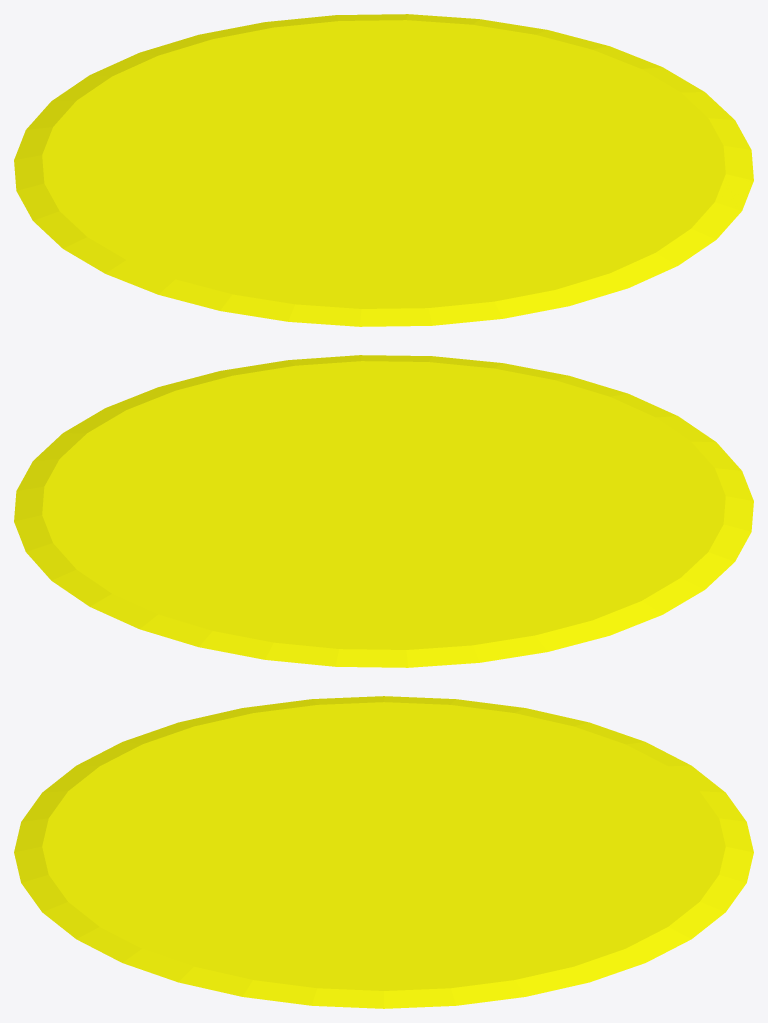
File: yellow_player.glb
3 views of the same model, one above another, from view 1: azimuth 30°, elevation 25°; view 2: azimuth 150°, elevation 25°; view 3: azimuth 270°, elevation 25° (orthographic).
Parts seen in each view (by area): view 1: RedPlayer; view 2: RedPlayer; view 3: RedPlayer.
Part boxes in pixels (bbox=[...]): RedPlayer: bbox=[14, 14, 753, 326]; RedPlayer: bbox=[14, 355, 753, 667]; RedPlayer: bbox=[14, 696, 753, 1008].
Bounding box in the file's own units: 0.2272 × 0.004 × 0.2272.
